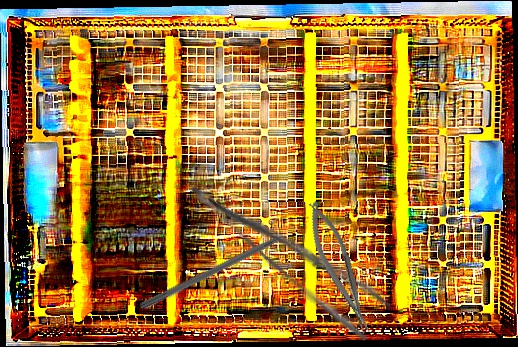Dressing Forceps: (185, 152, 397, 346)
Needle Holder: (301, 196, 376, 340)
Pusher: (139, 222, 309, 312)
